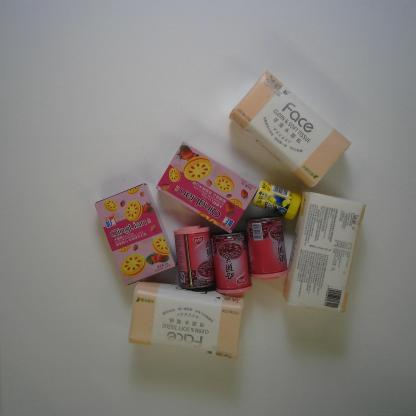Canned Food: (210, 229, 253, 297), (245, 215, 288, 281), (174, 224, 215, 289)
Dessert: (156, 141, 258, 234), (94, 182, 177, 286)
Gum: (252, 180, 302, 221)
Tissue: (228, 71, 353, 188), (282, 190, 366, 314), (128, 280, 246, 361)
